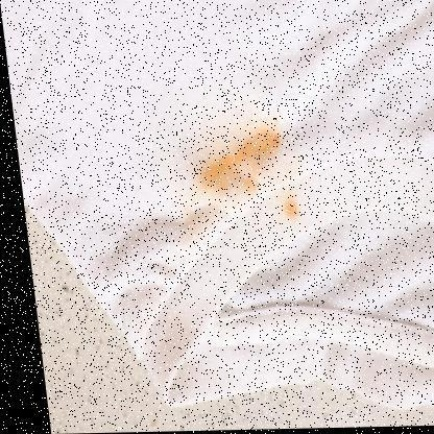kimchi: (197, 134, 283, 200), (268, 192, 302, 223)
